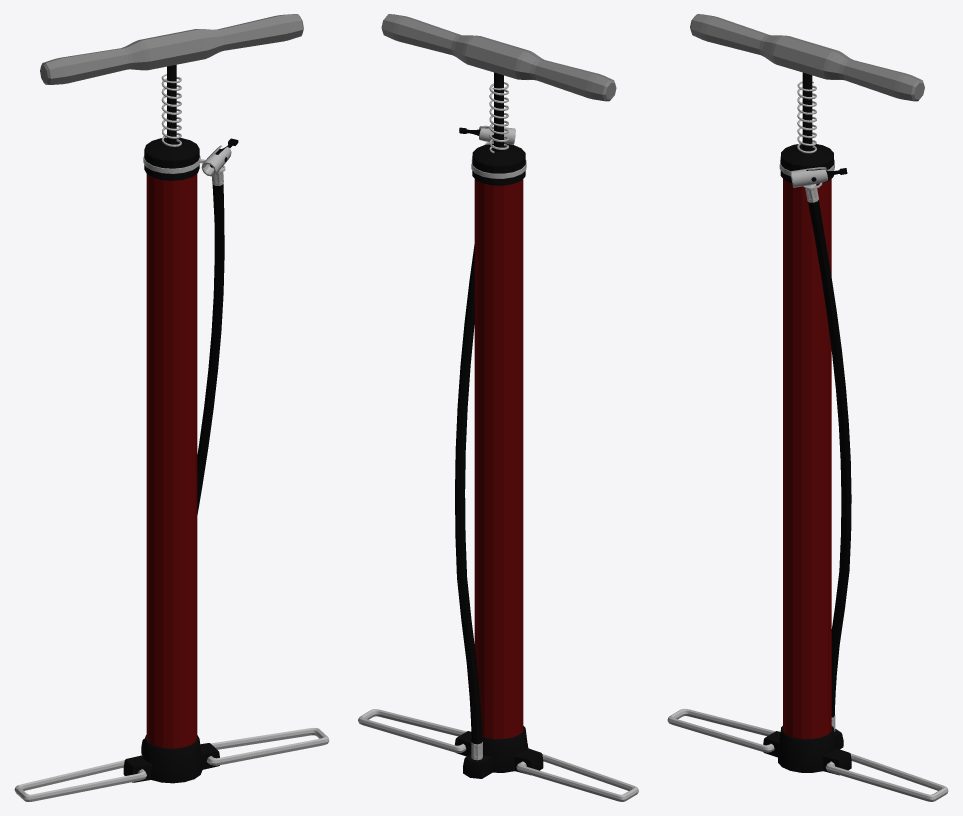
Rendered from Hand_Air_Pump.FBX.
The picture shows the model from 3 angles, left to right: view 1: azimuth 30°, elevation 25°; view 2: azimuth 150°, elevation 25°; view 3: azimuth 330°, elevation 25°; orthographic projection. The views are drawn at different scales.
Parts seen in each view (by area): view 1: hand_air_pump_part13, hand_air_pump_part17, hand_air_pump_part02, hand_air_pump_part05, hand_air_pump_part15, hand_air_pump_part14, hand_air_pump_part07, hand_air_pump_part16, hand_air_pump_part06; view 2: hand_air_pump_part13, hand_air_pump_part17, hand_air_pump_part02, hand_air_pump_part05, hand_air_pump_part15, hand_air_pump_part07, hand_air_pump_part14, hand_air_pump_part16, hand_air_pump_part06; view 3: hand_air_pump_part13, hand_air_pump_part17, hand_air_pump_part02, hand_air_pump_part05, hand_air_pump_part14, hand_air_pump_part15, hand_air_pump_part07, hand_air_pump_part16, hand_air_pump_part06, hand_air_pump_part09.
Boxes of the visible parts, bbox=[...] form: hand_air_pump_part13: bbox=[146, 174, 197, 748]; hand_air_pump_part17: bbox=[40, 14, 303, 84]; hand_air_pump_part02: bbox=[197, 184, 224, 514]; hand_air_pump_part05: bbox=[123, 735, 219, 783]; hand_air_pump_part15: bbox=[14, 760, 146, 801]; hand_air_pump_part14: bbox=[206, 727, 329, 765]; hand_air_pump_part07: bbox=[144, 137, 199, 180]; hand_air_pump_part16: bbox=[161, 74, 181, 146]; hand_air_pump_part06: bbox=[167, 64, 176, 144]; hand_air_pump_part13: bbox=[474, 179, 523, 738]; hand_air_pump_part17: bbox=[381, 14, 616, 101]; hand_air_pump_part02: bbox=[455, 244, 482, 744]; hand_air_pump_part05: bbox=[455, 726, 543, 778]; hand_air_pump_part15: bbox=[516, 754, 638, 801]; hand_air_pump_part07: bbox=[472, 143, 525, 185]; hand_air_pump_part14: bbox=[358, 709, 466, 752]; hand_air_pump_part16: bbox=[489, 82, 508, 153]; hand_air_pump_part06: bbox=[494, 72, 503, 151]; hand_air_pump_part13: bbox=[783, 179, 831, 739]; hand_air_pump_part17: bbox=[690, 14, 924, 101]; hand_air_pump_part02: bbox=[808, 200, 851, 717]; hand_air_pump_part05: bbox=[763, 726, 851, 775]; hand_air_pump_part14: bbox=[825, 753, 948, 801]; hand_air_pump_part15: bbox=[667, 708, 775, 752]; hand_air_pump_part07: bbox=[780, 143, 833, 184]; hand_air_pump_part16: bbox=[797, 81, 816, 153]; hand_air_pump_part06: bbox=[802, 72, 812, 151]; hand_air_pump_part09: bbox=[790, 167, 827, 187].
Bounding box in the file's own units: 36.83 × 88.88 × 12.19.
